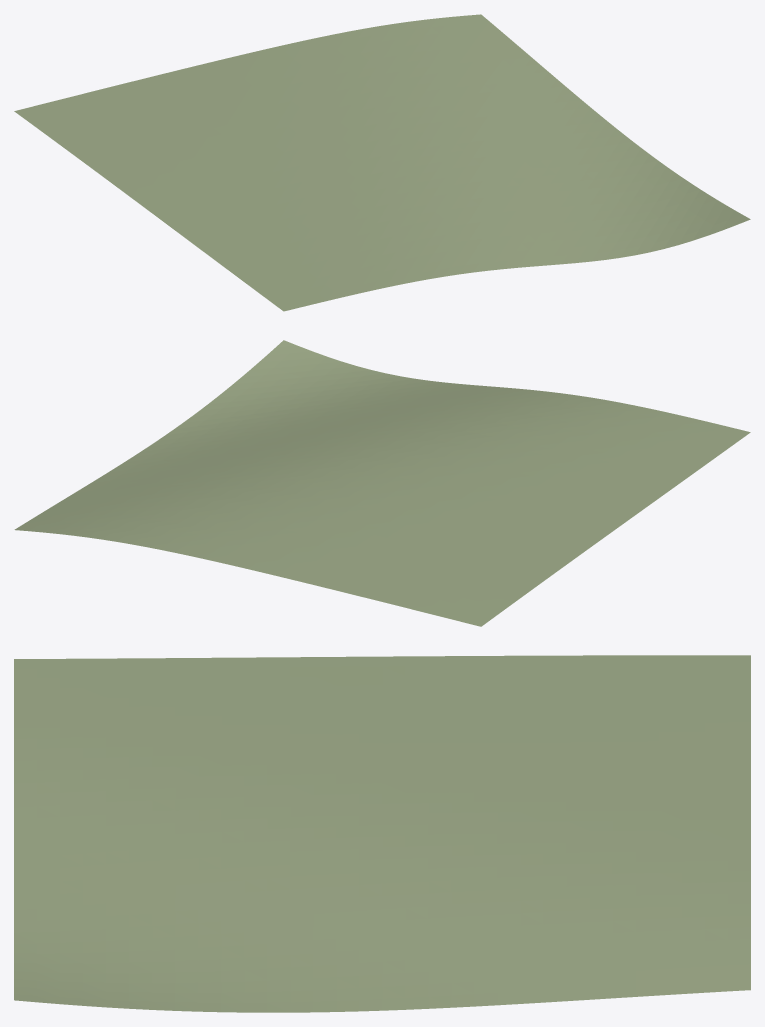
Rendered from desert-12-10.glb.
The picture shows the model from 3 angles, top to bottom: view 1: azimuth 30°, elevation 25°; view 2: azimuth 150°, elevation 25°; view 3: azimuth 270°, elevation 25°; orthographic projection. The views are drawn at different scales.
Visible parts, largest first — view 1: desert-12-10; view 2: desert-12-10; view 3: desert-12-10.
Part boxes in pixels (x1,y1,x2,y2): desert-12-10: [14, 14, 750, 311]; desert-12-10: [14, 340, 750, 626]; desert-12-10: [14, 655, 750, 1012].
Size of the model in its own units: 512 by 36.35 by 512.
